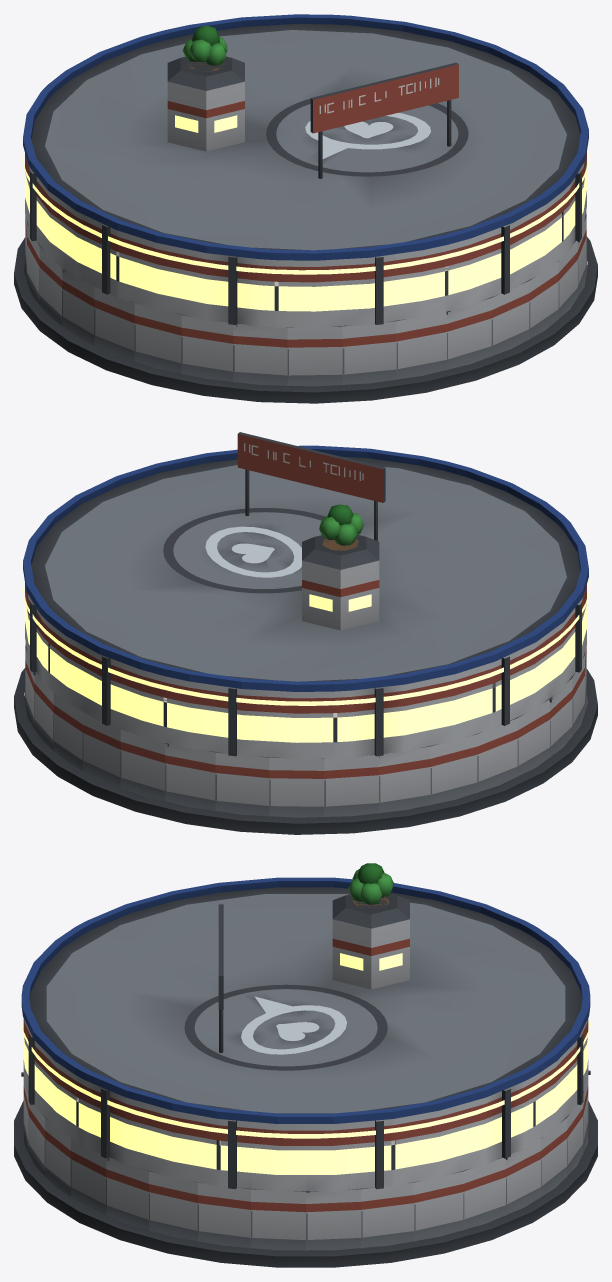
The model's file is hr_office_s_far.glb.
3 views of the same model, one above another, from view 1: azimuth 30°, elevation 25°; view 2: azimuth 150°, elevation 25°; view 3: azimuth 270°, elevation 25° (orthographic).
Parts seen in each view (by area): view 1: Roof, Base; view 2: Roof, Base; view 3: Roof, Base.
Boxes of the visible parts, box(x1,y1,x2,y2) form: Roof: box(21, 14, 590, 327); Base: box(14, 211, 597, 403); Roof: box(21, 432, 590, 759); Base: box(14, 642, 597, 834); Roof: box(21, 863, 590, 1191); Base: box(14, 1070, 597, 1267).
Size of the model in its own units: 11.74 by 5.5 by 11.74.
